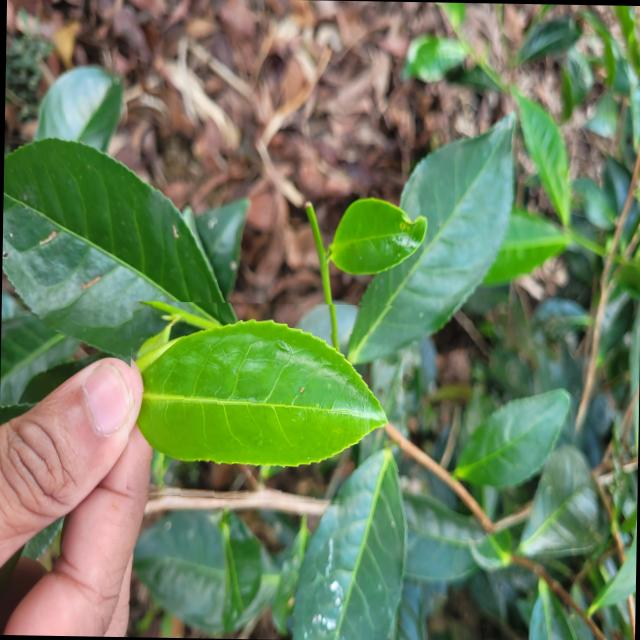Category D(7+ days, Not for Tea): (125, 300, 402, 506)
